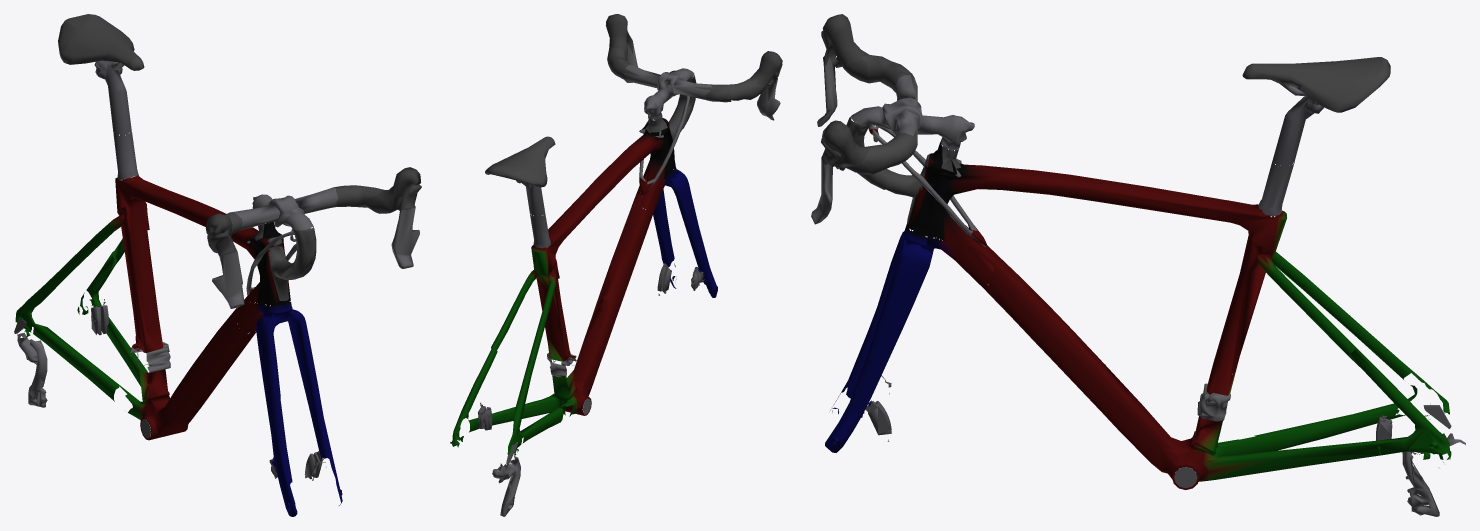
The model's file is roubaix54_lod2.glb.
3 views of the same model, side by side, from view 1: azimuth 30°, elevation 25°; view 2: azimuth 150°, elevation 25°; view 3: azimuth 270°, elevation 25° (orthographic). The views are drawn at different scales.
Parts seen in each view (by area): view 1: frame, cockpit, fork, saddle, seatpost, etrier_arriere; view 2: frame, cockpit, fork, saddle, seatpost; view 3: frame, cockpit, fork, saddle, seatpost.
Boxes of the visible parts, x1,y1,x2,y2 form: frame: (14,175,316,440); cockpit: (205,167,421,308); fork: (236,300,342,516); saddle: (58,14,144,135); seatpost: (113,132,138,180); etrier_arriere: (91,299,108,335); frame: (450,75,696,516); cockpit: (605,14,782,120); fork: (632,167,717,297); saddle: (485,136,555,216); seatpost: (530,213,550,248); frame: (846,116,1465,516); cockpit: (811,14,974,224); fork: (825,224,997,452); saddle: (1242,57,1390,166); seatpost: (1258,161,1294,216).
Bounding box in the file's own units: 0.4744 × 0.8524 × 1.09.
